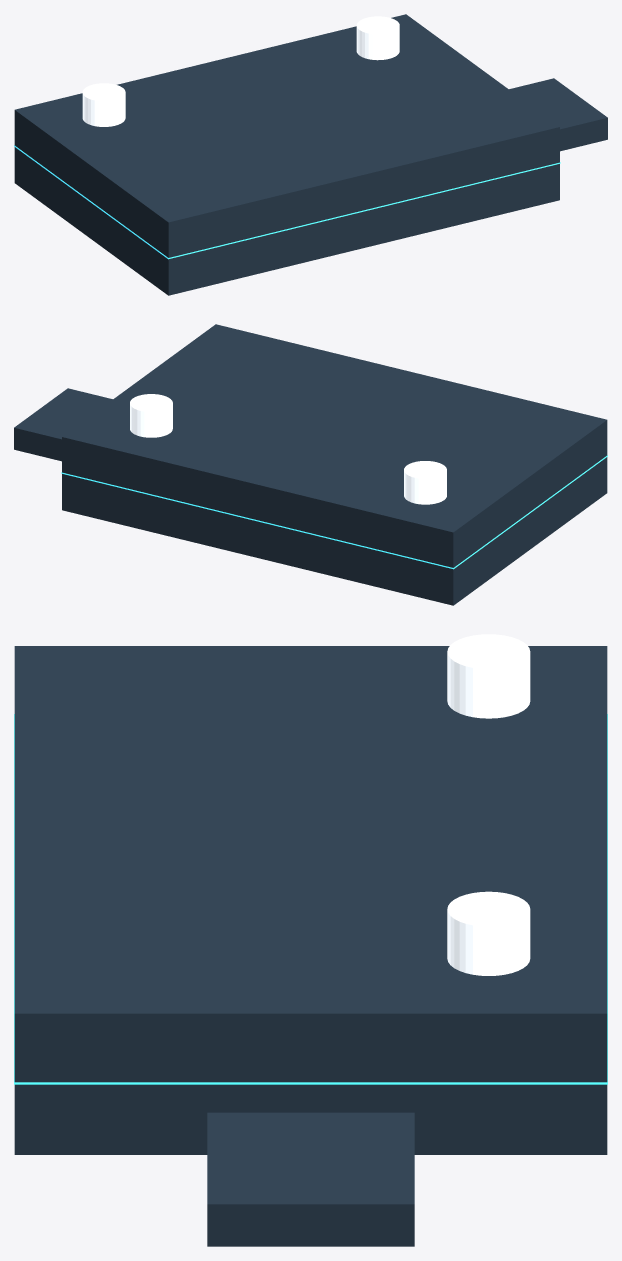
File: central_utility_plant.glb
3 views of the same model, one above another, from view 1: azimuth 30°, elevation 25°; view 2: azimuth 150°, elevation 25°; view 3: azimuth 270°, elevation 25° (orthographic). The views are drawn at different scales.
Visible parts, largest first — view 1: central_utility_plant; view 2: central_utility_plant; view 3: central_utility_plant.
Part boxes in pixels (left/top/right/bottom): central_utility_plant: left=14, top=14, right=607, bottom=295; central_utility_plant: left=14, top=324, right=607, bottom=605; central_utility_plant: left=14, top=634, right=607, bottom=1246.
Size of the model in its own units: 83.94 by 16.2 by 45.79.
